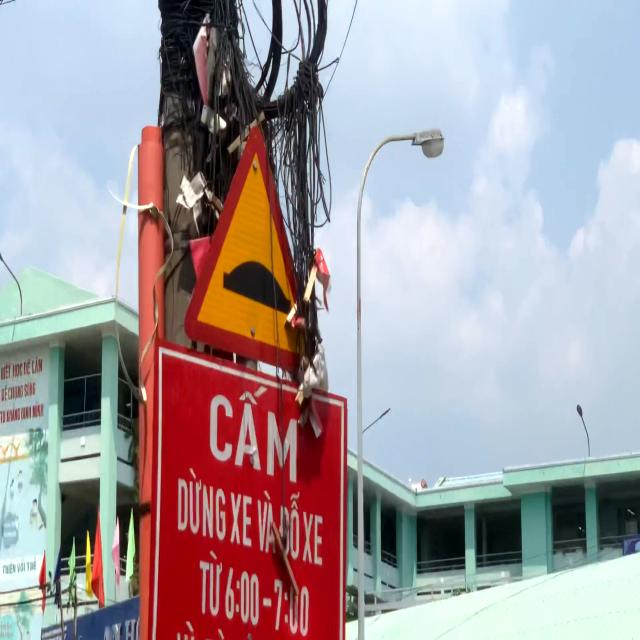W.221b: (182, 113, 332, 390)
